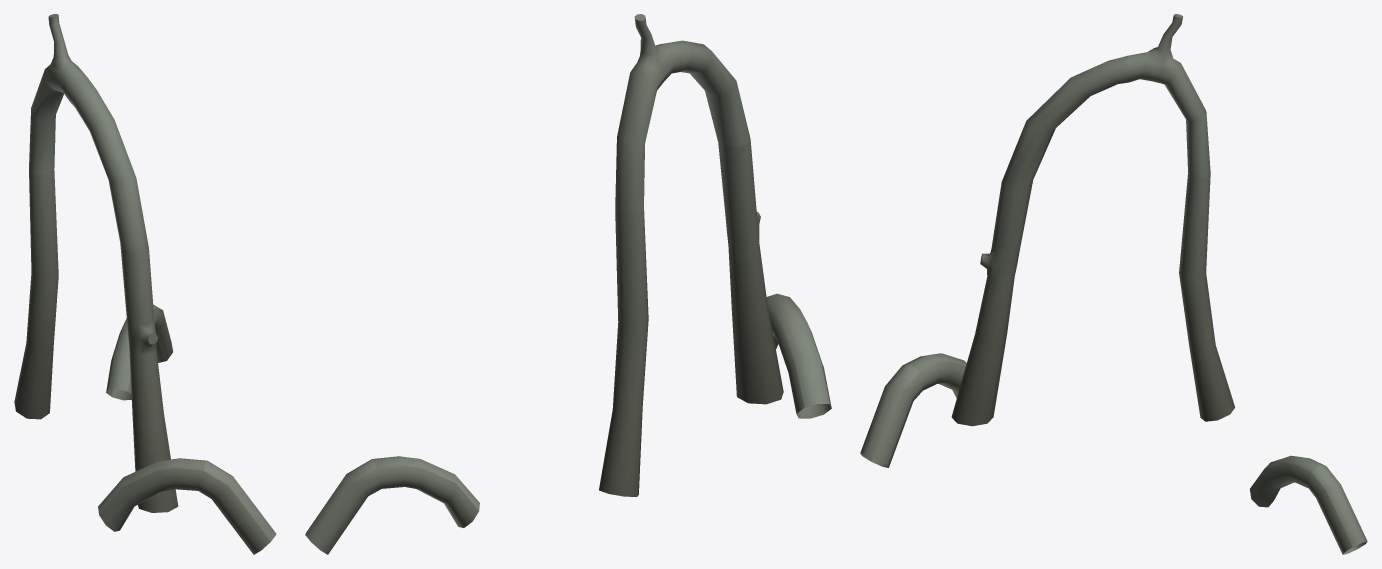
Rendered from Environment_Portal_pathway.fbx.
3 views of the same model, side by side, from view 1: azimuth 30°, elevation 25°; view 2: azimuth 150°, elevation 25°; view 3: azimuth 270°, elevation 25° (orthographic). The views are drawn at different scales.
Parts seen in each view (by area): view 1: pCylinder8; view 2: pCylinder8; view 3: pCylinder8.
Boxes of the visible parts, x1,y1,x2,y2 form: pCylinder8: [14, 14, 276, 554]; pCylinder8: [305, 14, 831, 554]; pCylinder8: [860, 14, 1367, 554].
Bounding box in the file's own units: 4.8 × 7.83 × 8.03.
